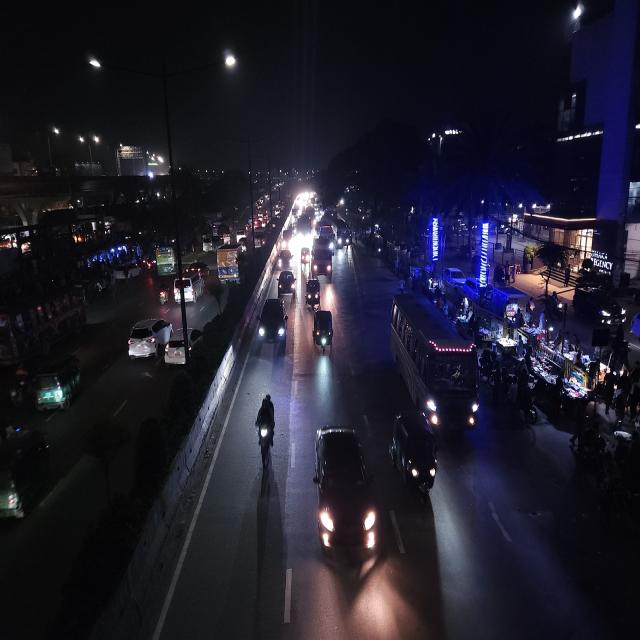bus: (386, 290, 481, 436), (0, 281, 88, 368), (154, 242, 176, 275), (336, 220, 350, 251)
car: (312, 420, 378, 580), (126, 315, 173, 364), (163, 324, 203, 371), (256, 295, 288, 351), (173, 273, 205, 306), (276, 268, 297, 298), (182, 260, 210, 278), (275, 246, 293, 272), (202, 236, 218, 251)
cng: (389, 408, 441, 507), (34, 351, 82, 414), (311, 306, 335, 357), (304, 276, 322, 313), (299, 247, 311, 266), (238, 235, 248, 253)
motorcycle: (251, 388, 279, 469), (157, 284, 169, 307)
truck: (215, 245, 247, 288), (311, 238, 335, 282)
